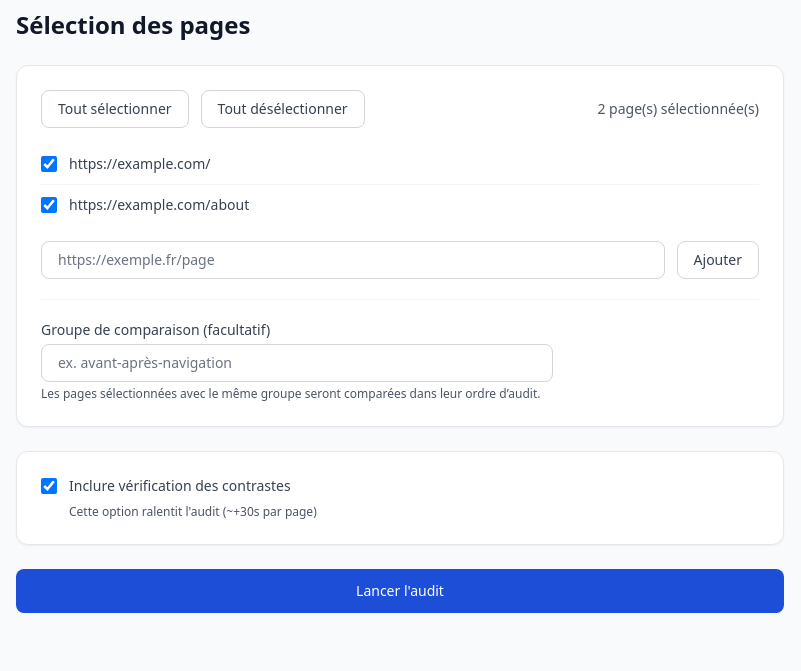
Test: PageSelection › permet d'ajouter une URL manuellement
Type "https://example.com/contact" into the field with placeholder "https://exemple.fr/page" at (353, 260), box [41, 241, 665, 279]
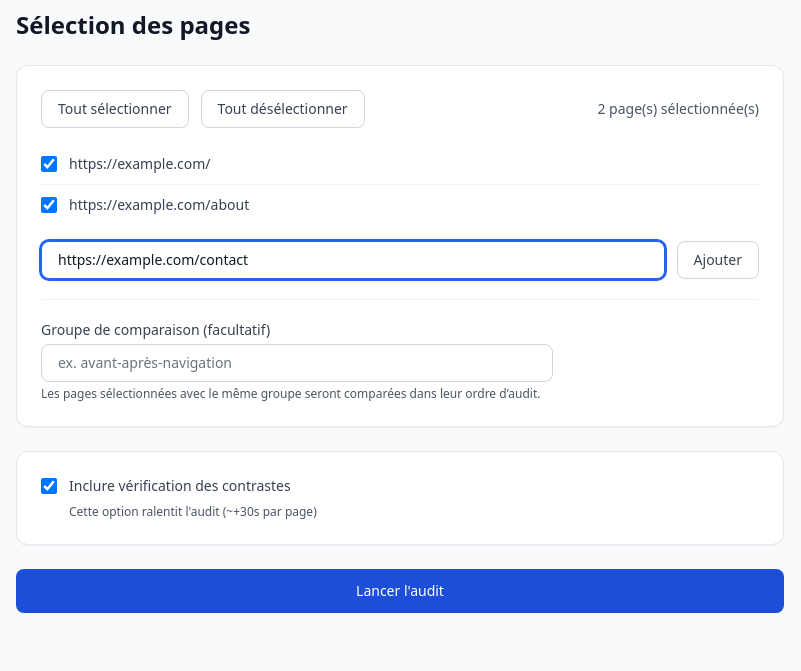
Click the button "Ajouter" at (718, 260), box [677, 241, 759, 279]
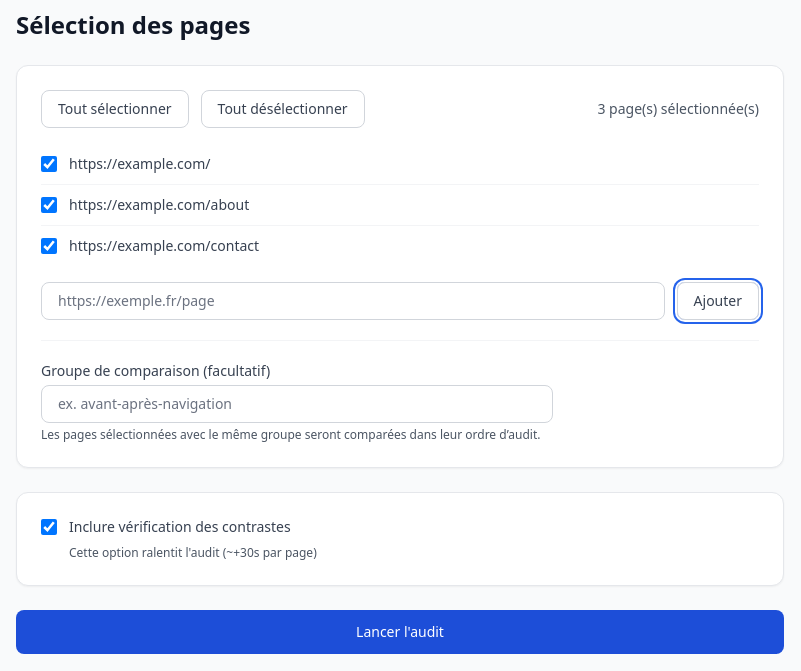
Check: the text "https://example.com/contact" is shown, box [69, 236, 259, 256]
